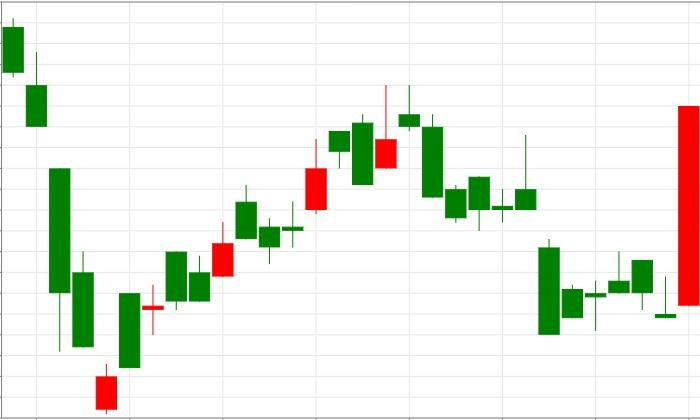evening_star_fall: (166, 85, 444, 310)
